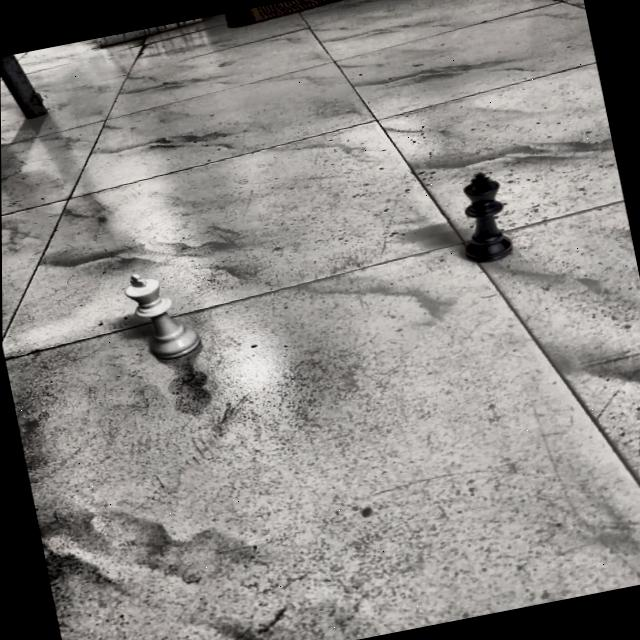BlackKing: (446, 168, 517, 268)
WhiteKing: (117, 262, 207, 366)
